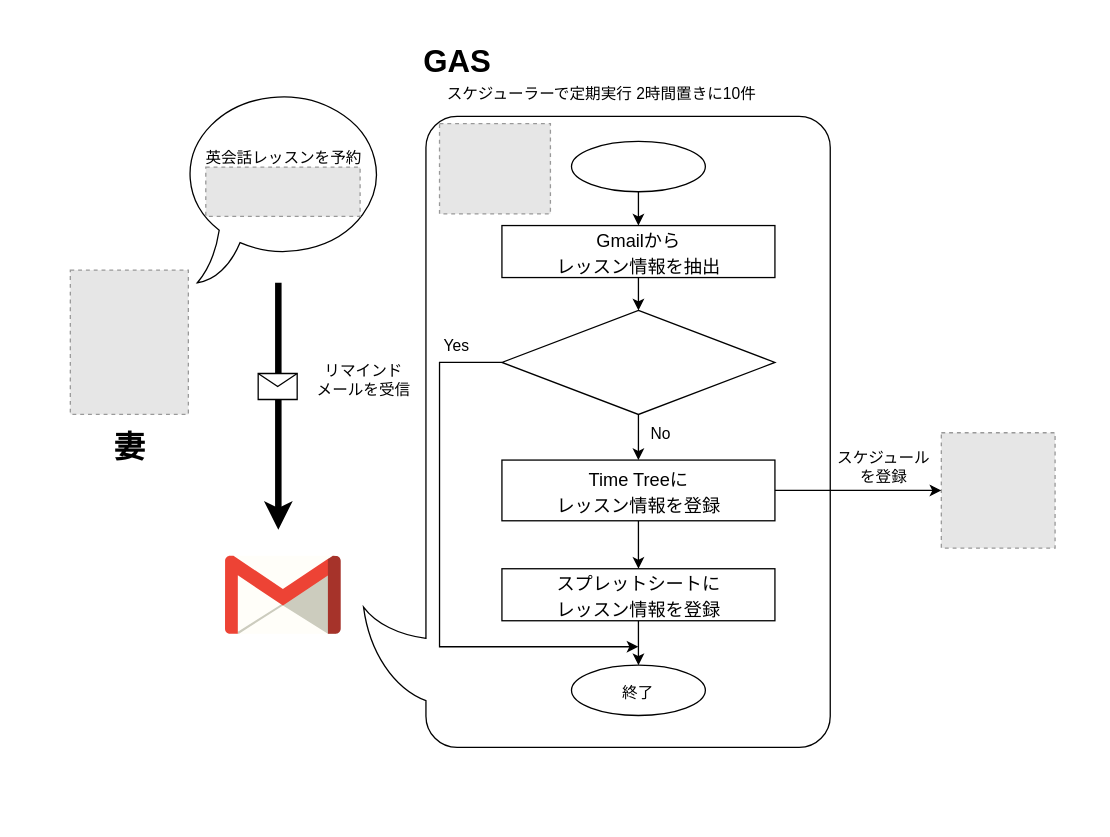
Some shapes in this 1110 by 837 pixel diagram are drawn without their labels. Grey dashed boxes stand in for pictures. The box of each missing label's shape, as (x1, y1, x2, y2) in pixels:
スプレットシートに レッスン情報がある: (501, 309, 775, 414)
開始: (570, 140, 705, 192)
